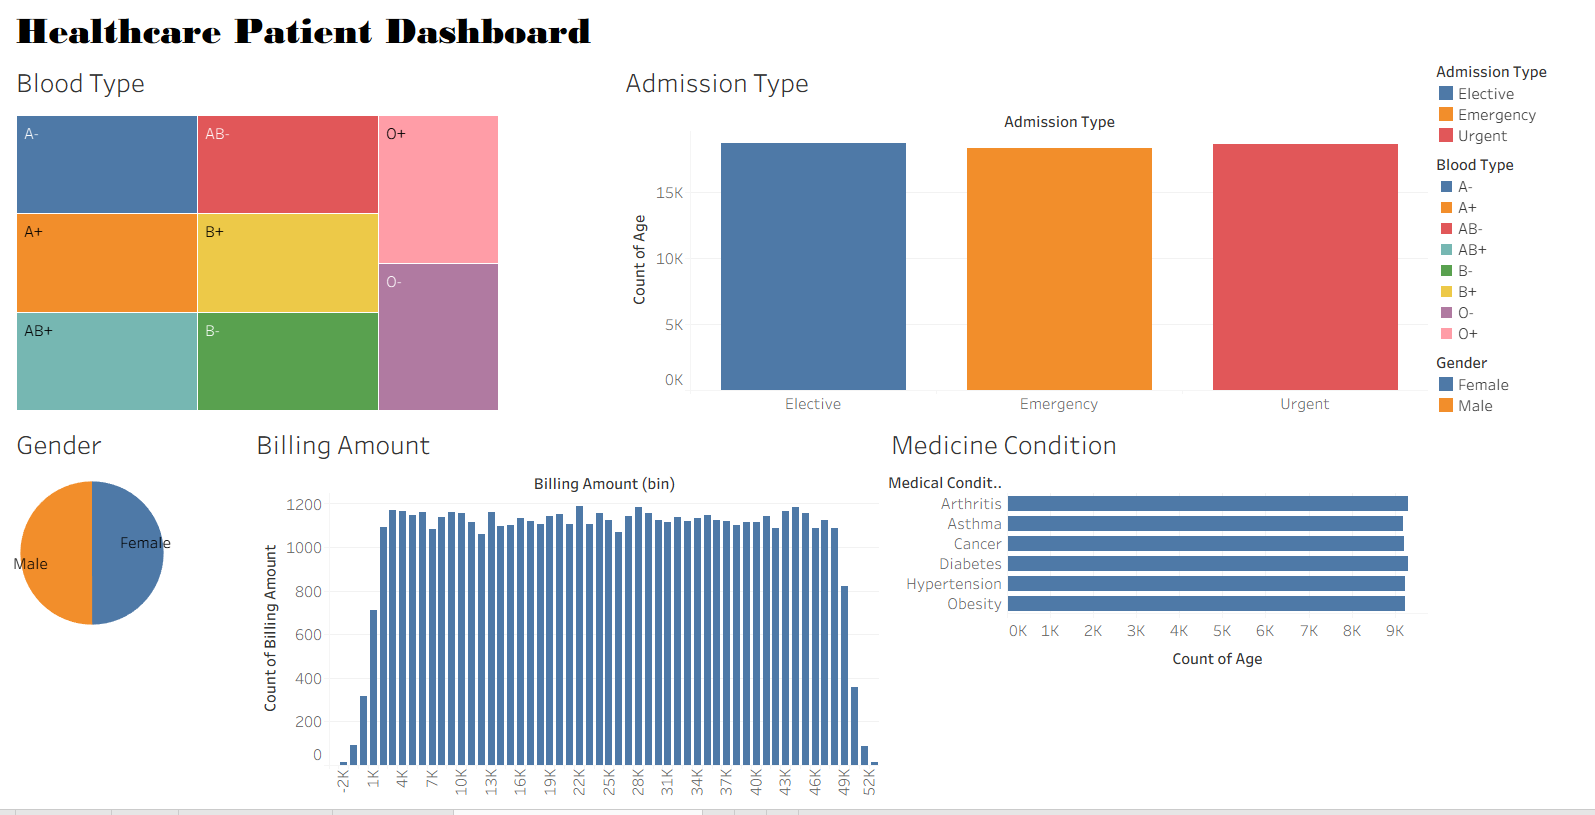

What the dashboard file says about the page in this screenshot:
{"tool":"tableau","page":{"name":"Healthcare Patient Dashboard","canvas":[1000,1000],"units":"permille","ordinal":0},"visuals":[{"type":"title","box":[5,9.8,990,64]},{"type":"worksheet","title":"Blood Type","mark":"Automatic","box":[5,73.9,380.6,445.8]},{"type":"worksheet","title":"Admission Type","mark":"Automatic","rows":["Age"],"cols":["Admission Type"],"box":[385.6,73.9,509.4,445.8]},{"type":"legend","title":"Admission Type","param":"[federated.00tfojx1ey9o941bwl1tt1ul1xf3].[none:Admission Type:nk]","box":[895,73.9,100,114.5]},{"type":"legend","title":"Blood Type","param":"[federated.00tfojx1ey9o941bwl1tt1ul1xf3].[none:Blood Type:nk]","box":[895,188.4,100,243.8]},{"type":"legend","title":"Gender","param":"[federated.00tfojx1ey9o941bwl1tt1ul1xf3].[none:Gender:nk]","box":[895,432.3,100,88.7]},{"type":"worksheet","title":"Gender","mark":"Pie","box":[5,519.7,150,470.5]},{"type":"worksheet","title":"Billing Amount","mark":"Automatic","rows":["Billing Amount"],"cols":["Billing Amount (bin)"],"box":[155,519.7,396.9,470.5]},{"type":"worksheet","title":"Medicine Condition","mark":"Automatic","rows":["Medical Condition"],"cols":["Age"],"box":[551.9,519.7,343.1,470.5]}]}

Visuals, with their boxes on the dashboard's canvas, which has no fixed pixel size, in thousandths of its width and height (x1, y1, x2, y2). These are canvas units, not pixel positions in the 1595x815 screenshot, which may show the page scaled, cropped or inside an application window:
title: bbox(5, 10, 995, 74)
"Blood Type" worksheet: bbox(5, 74, 386, 520)
"Admission Type" worksheet: bbox(386, 74, 895, 520)
"Admission Type" legend: bbox(895, 74, 995, 188)
"Blood Type" legend: bbox(895, 188, 995, 432)
"Gender" legend: bbox(895, 432, 995, 521)
"Gender" worksheet (Pie marks): bbox(5, 520, 155, 990)
"Billing Amount" worksheet: bbox(155, 520, 552, 990)
"Medicine Condition" worksheet: bbox(552, 520, 895, 990)
